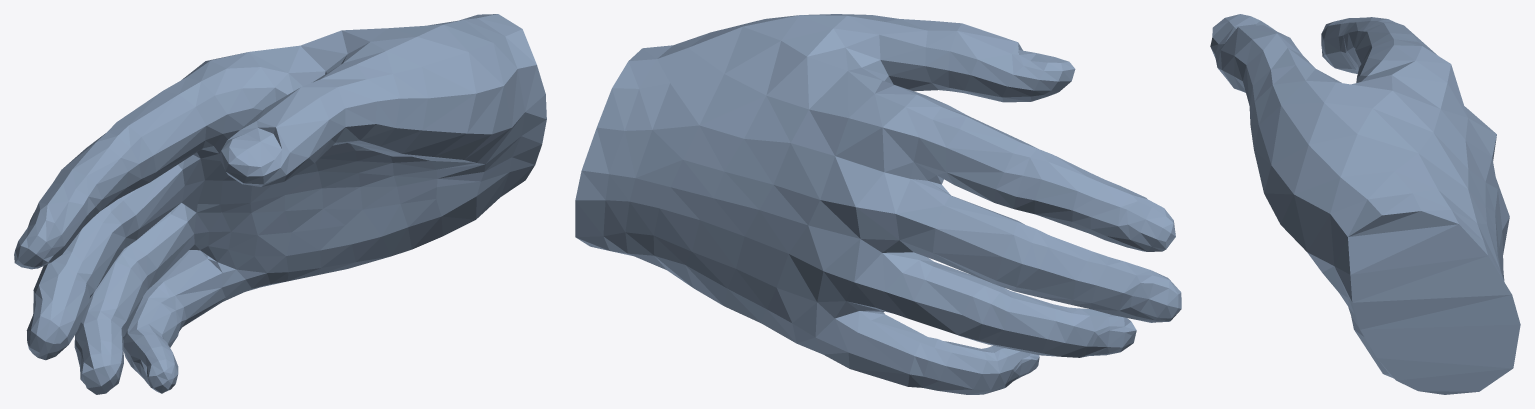
The model's file is frame_00010_0.obj.
3 renders of one model, left to right at view 1: azimuth 30°, elevation 25°; view 2: azimuth 150°, elevation 25°; view 3: azimuth 270°, elevation 25°, orthographic. The views are drawn at different scales.
Size of the model in its own units: 0.1776 by 0.0977 by 0.0878.
